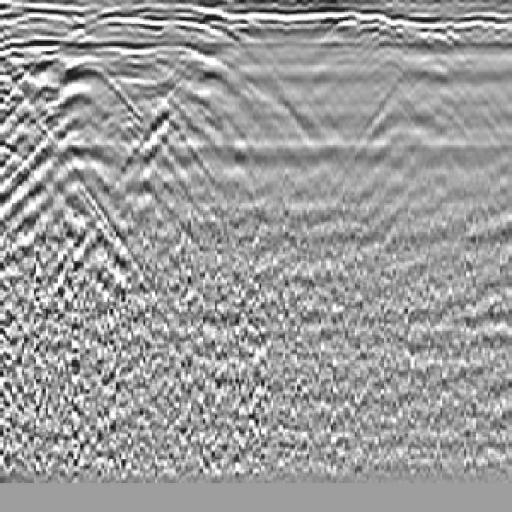non-metallic: (1, 44, 182, 272)
